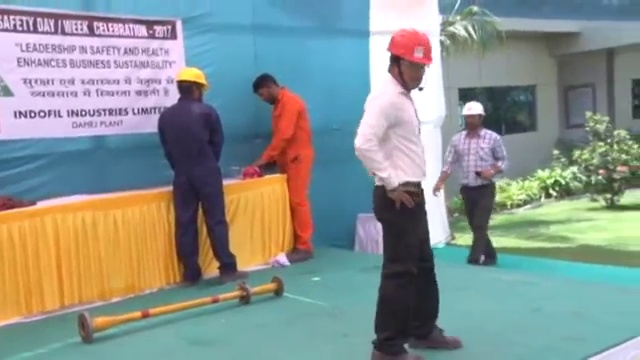helmet: (386, 27, 434, 65), (175, 65, 208, 90), (460, 100, 487, 116)
helmet_off: (250, 71, 284, 107)
helmet_on: (384, 26, 436, 97), (173, 63, 210, 104), (459, 99, 488, 135)
person: (353, 26, 461, 357), (157, 65, 250, 282), (433, 99, 509, 266), (252, 72, 314, 264)
